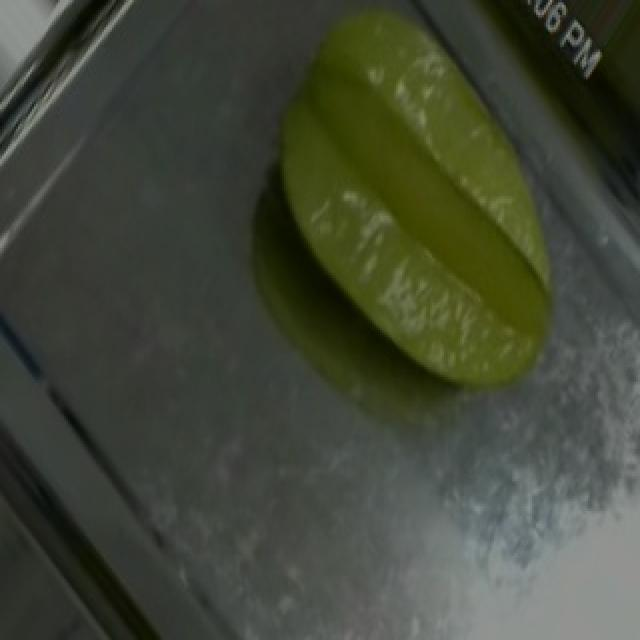fruit: (220, 0, 624, 424)
